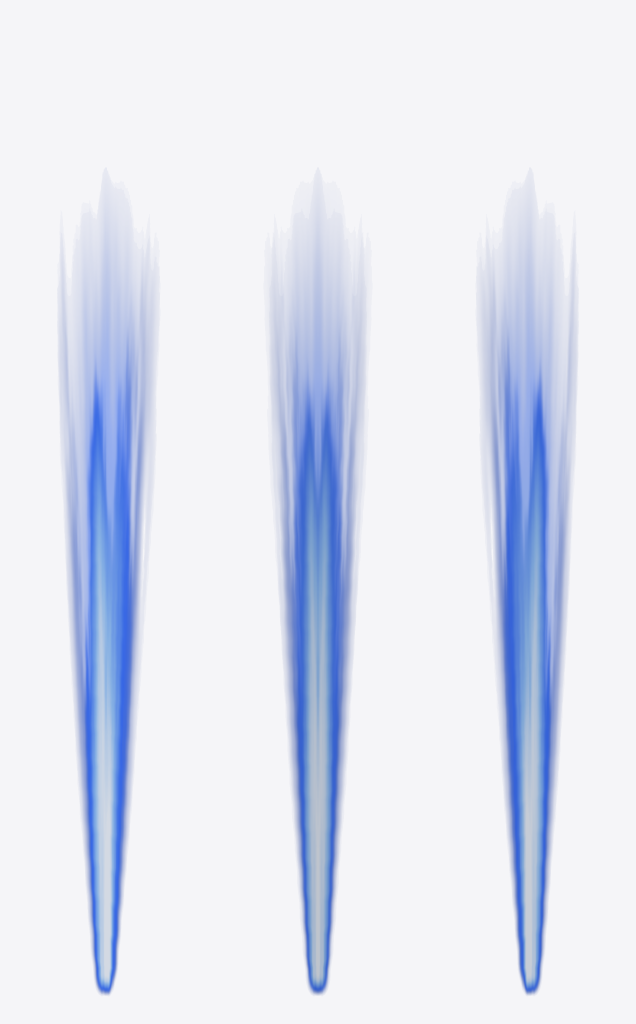
File: trail_flame_azure.glb
3 renders of one model, left to right at view 1: azimuth 30°, elevation 25°; view 2: azimuth 150°, elevation 25°; view 3: azimuth 270°, elevation 25°, orthographic.
Parts seen in each view (by area): view 1: flame; view 2: flame; view 3: flame.
Boxes of the visible parts, x1=… form: flame: x1=61, y1=224, x2=152, y2=994; flame: x1=272, y1=224, x2=363, y2=994; flame: x1=483, y1=224, x2=574, y2=994.
Size of the model in its own units: 11.8 by 58 by 10.22.
Materials: 1 (1 with a texture image).
